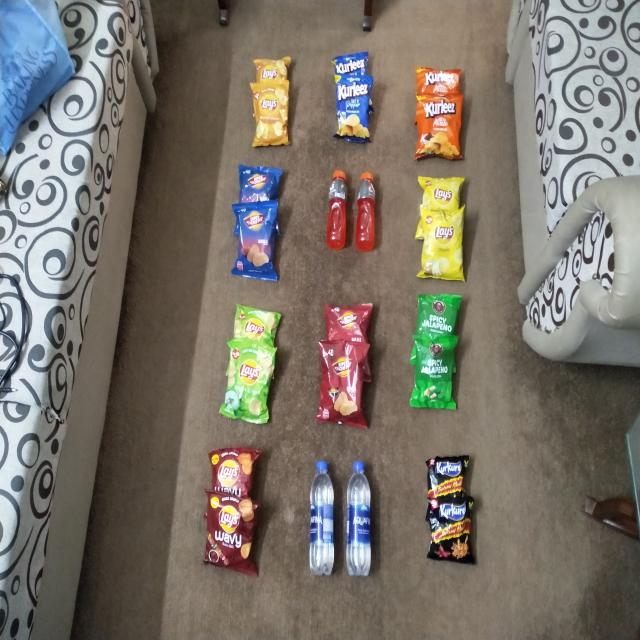Plastic: (319, 340, 366, 426), (208, 494, 255, 573), (228, 339, 270, 426), (422, 207, 464, 280), (235, 206, 276, 280), (347, 456, 371, 578), (416, 339, 456, 412), (416, 96, 460, 159), (430, 500, 480, 554), (311, 458, 333, 578), (252, 83, 292, 145), (210, 448, 258, 492), (337, 77, 369, 140), (234, 304, 280, 342), (324, 302, 372, 338), (416, 293, 458, 334), (240, 166, 282, 206), (428, 454, 466, 496), (328, 170, 348, 248), (414, 68, 462, 97), (421, 178, 464, 209), (358, 170, 374, 250), (254, 61, 288, 80), (335, 54, 367, 72)
